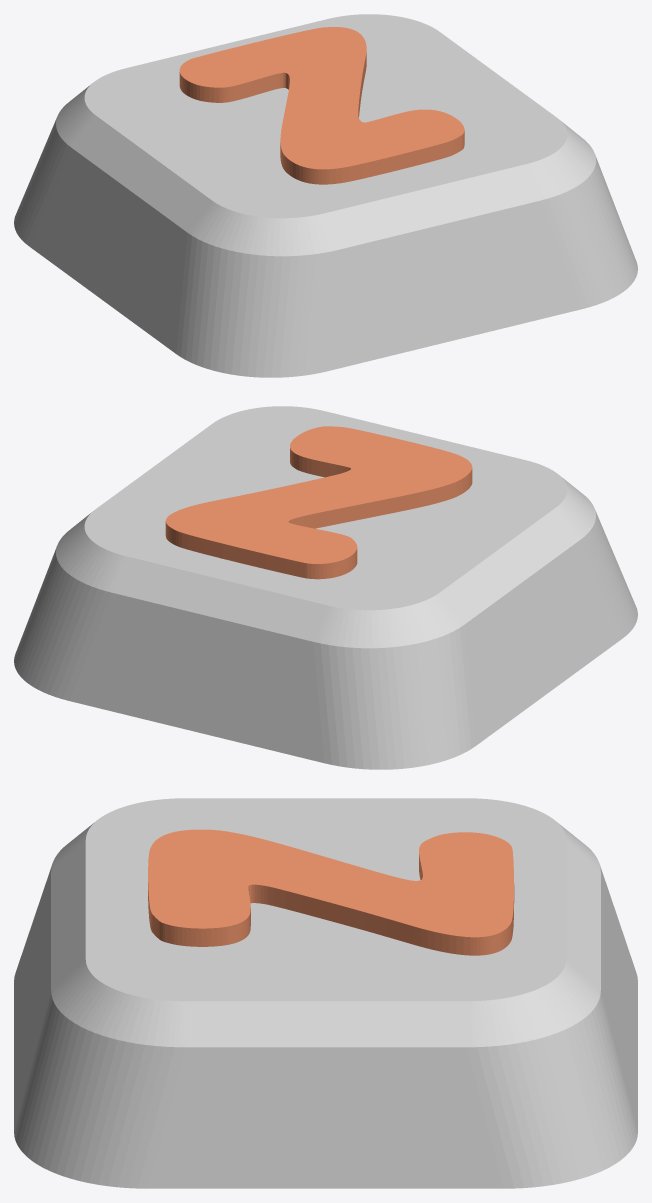
The model's file is cap-Z.glb.
The picture shows the model from 3 angles, top to bottom: view 1: azimuth 30°, elevation 25°; view 2: azimuth 150°, elevation 25°; view 3: azimuth 270°, elevation 25°; orthographic projection. The views are drawn at different scales.
Visible parts, largest first — view 1: cap_0, glyph_1; view 2: cap_0, glyph_1; view 3: cap_0, glyph_1.
Part boxes in pixels (x1,y1,x2,y2): cap_0: (14,14,637,377); glyph_1: (179,27,464,184); cap_0: (14,406,637,769); glyph_1: (165,426,472,579); cap_0: (14,798,637,1188); glyph_1: (148,829,514,955).
Bounding box in the file's own units: 18 × 5.59 × 18.
